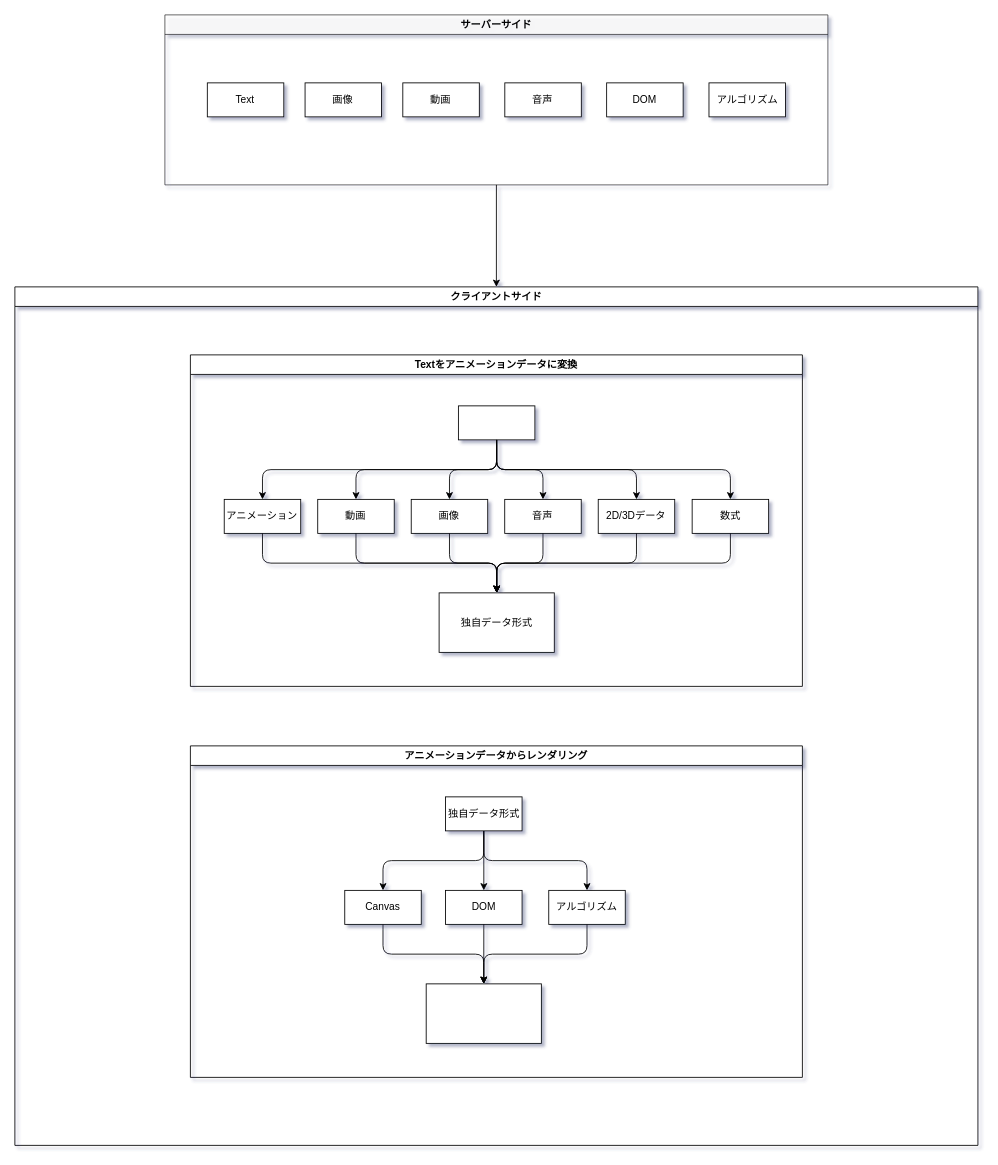
The diagram is 998 pixels wide and 1165 high, and some of its shapes have lost their labels. Each missing label, with the centre of its shape:
独自エンジン: (x=496, y=422)
画面にレンダリング: (x=483, y=1013)
